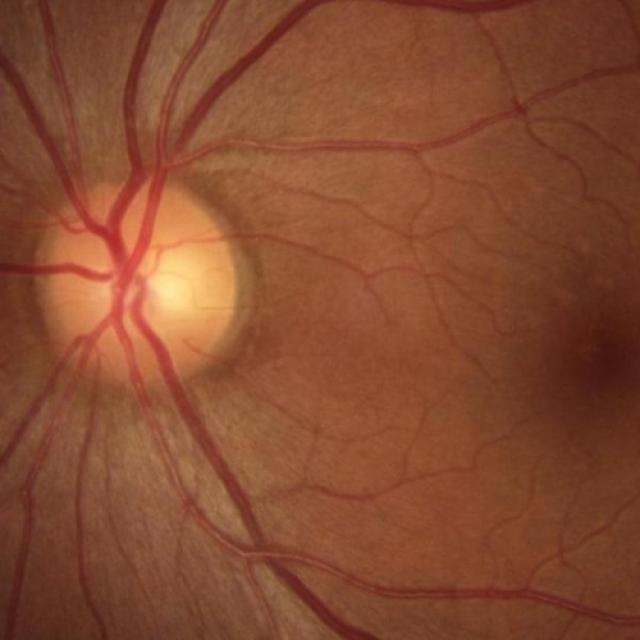OC: (145, 262, 198, 311)
OD: (49, 184, 240, 382)
